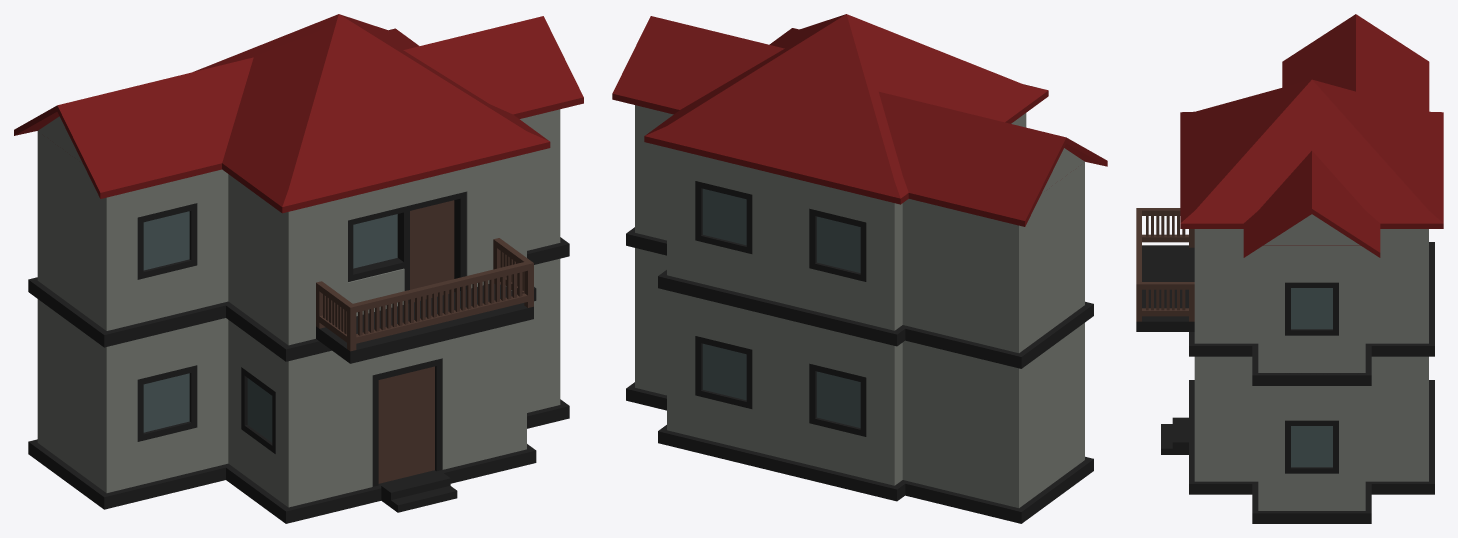
The model's file is house_01.fbx.
The picture shows the model from 3 angles, left to right: view 1: azimuth 30°, elevation 25°; view 2: azimuth 150°, elevation 25°; view 3: azimuth 270°, elevation 25°; orthographic projection. The views are drawn at different scales.
Visible parts, largest first — view 1: building_003; view 2: building_003; view 3: building_003.
Boxes of the visible parts, left/top/right/bottom form: building_003: left=14, top=14, right=583, bottom=523; building_003: left=612, top=14, right=1107, bottom=523; building_003: left=1136, top=14, right=1443, bottom=523.
Size of the model in its own units: 773 by 684 by 525.
